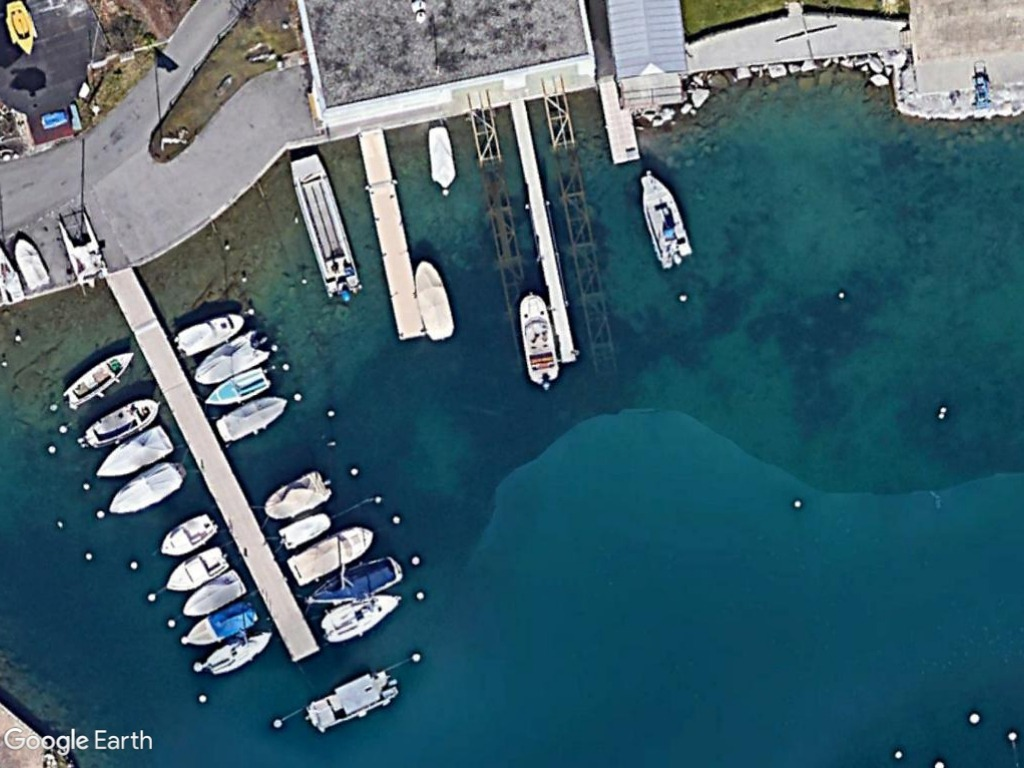boat: (301, 550, 409, 611), (284, 521, 380, 588), (635, 169, 693, 273), (89, 418, 176, 485), (104, 453, 190, 520), (320, 583, 404, 649), (72, 391, 159, 452), (62, 344, 139, 410), (513, 288, 562, 391), (169, 562, 249, 623), (210, 388, 294, 446), (190, 327, 272, 386), (181, 594, 261, 652), (160, 536, 232, 599), (262, 465, 337, 523), (200, 623, 274, 681), (172, 308, 249, 357), (271, 504, 348, 553), (153, 504, 220, 560), (414, 256, 456, 344), (203, 359, 274, 411), (8, 231, 53, 298), (423, 121, 461, 194)
